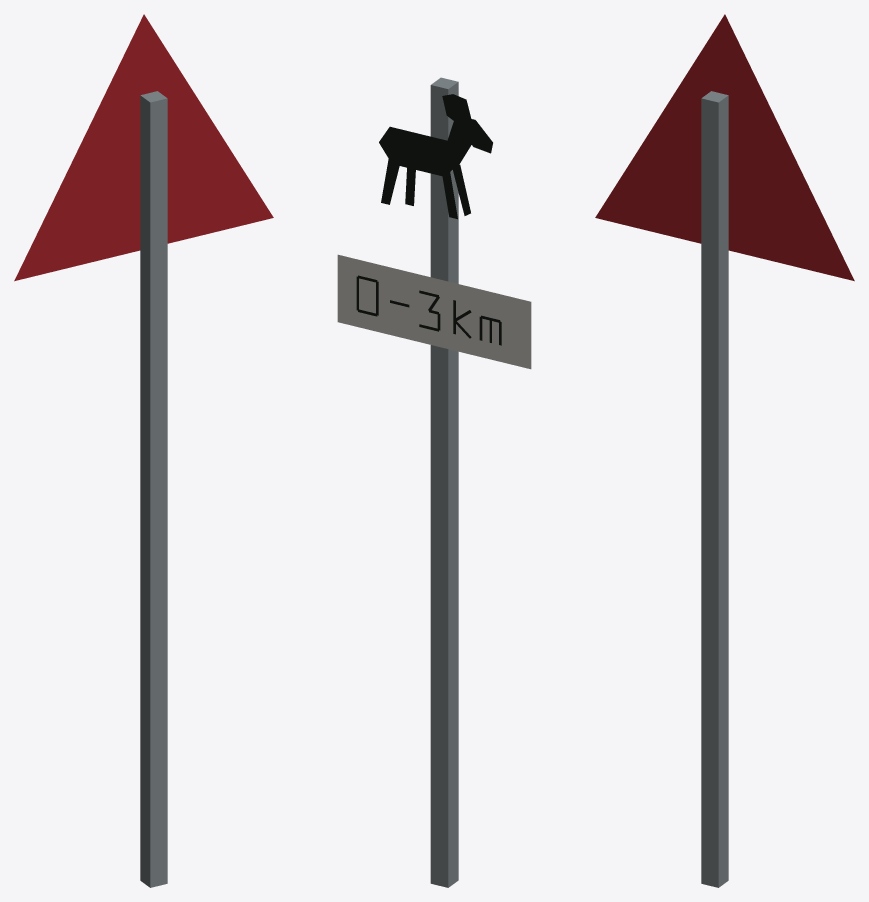
The model's file is sign_elg.glb.
3 renders of one model, left to right at view 1: azimuth 30°, elevation 25°; view 2: azimuth 150°, elevation 25°; view 3: azimuth 330°, elevation 25°, orthographic.
Parts seen in each view (by area): view 1: sign_elg; view 2: sign_elg; view 3: sign_elg.
Part boxes in pixels (x1,y1,x2,y2): sign_elg: [14, 14, 273, 887]; sign_elg: [337, 77, 531, 887]; sign_elg: [595, 14, 854, 887].
Bounding box in the file's own units: 0.9001 × 2.85 × 0.096.
